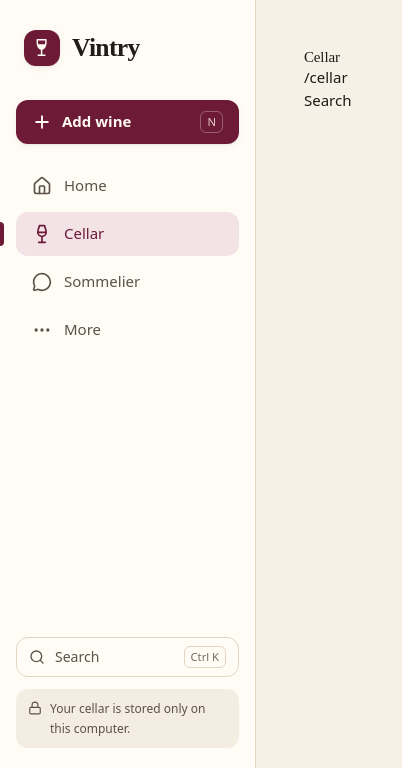
Test case: App shell layout › marks the current section with aria-current
The image size is (402, 768).
Click the link "Sommelier" at (86, 281), box [32,271,140,292]
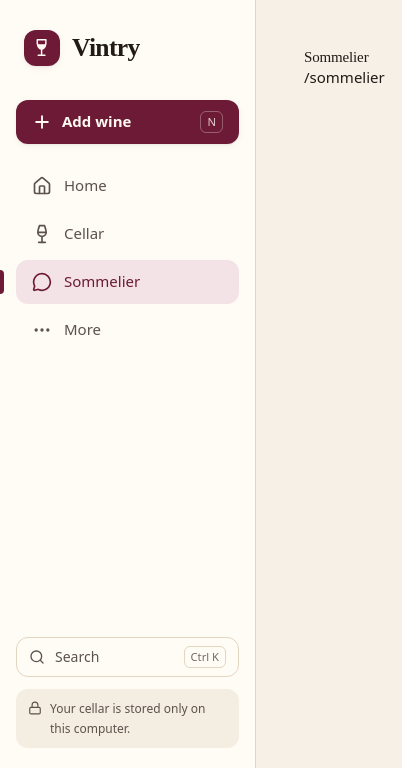
Result: the heading "Sommelier" is shown at [304,49,368,65]
